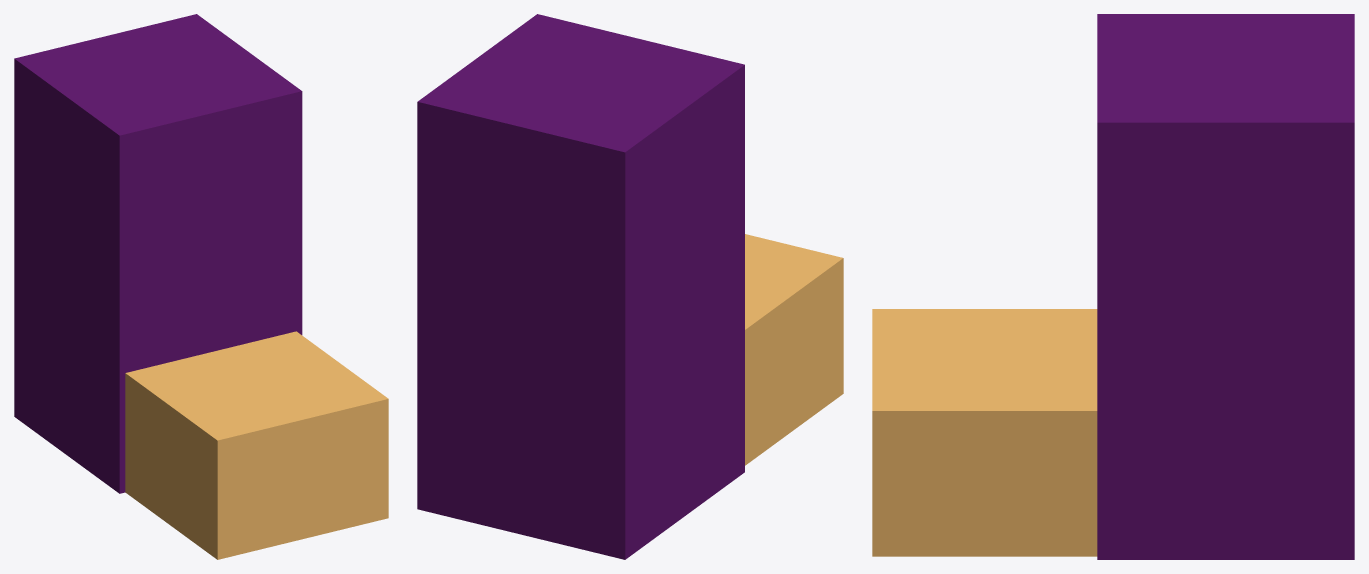
The model's file is player_left_calf.obj.
3 renders of one model, left to right at view 1: azimuth 30°, elevation 25°; view 2: azimuth 150°, elevation 25°; view 3: azimuth 270°, elevation 25°, orthographic. The views are drawn at different scales.
Visible parts, largest first — view 1: 立方體_立方體.005, 立方體; view 2: 立方體_立方體.005, 立方體; view 3: 立方體_立方體.005, 立方體.
Part boxes in pixels (<box>): 立方體_立方體.005: <box>14,14,302,493</box>; 立方體: <box>125,331,388,559</box>; 立方體_立方體.005: <box>417,14,744,559</box>; 立方體: <box>745,234,843,465</box>; 立方體_立方體.005: <box>1097,14,1354,559</box>; 立方體: <box>872,309,1097,556</box>.
Size of the model in its own units: 0.8 by 1.5 by 1.5.
Materials: 2 (2 with a texture image).
